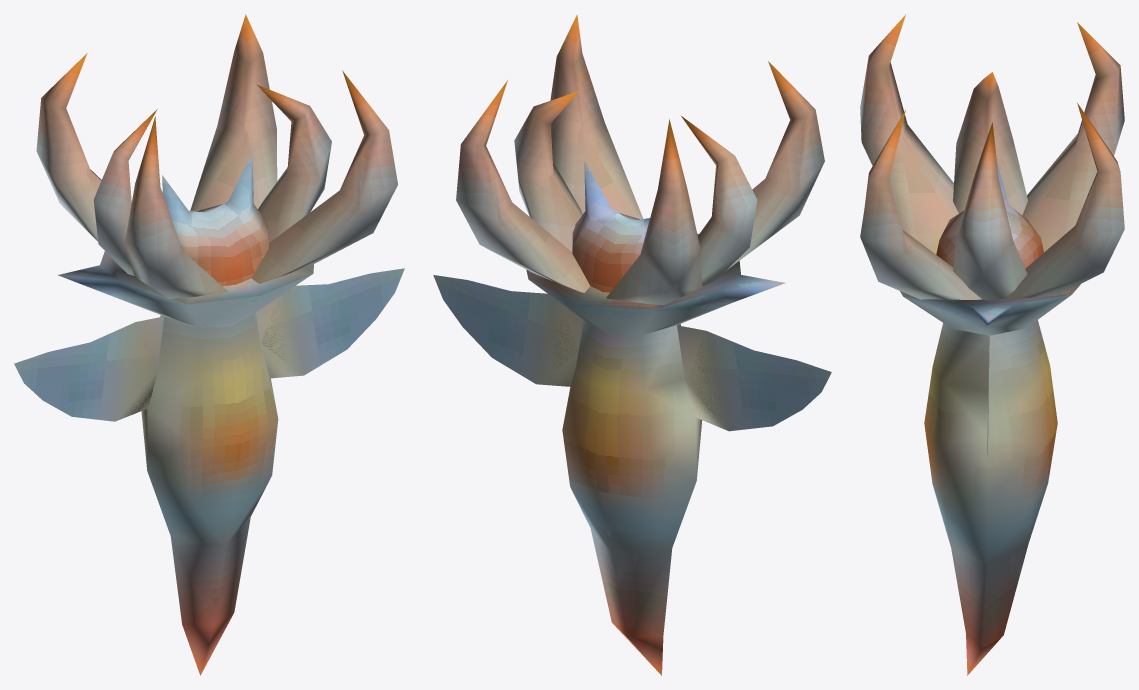
File: sea-butterfly.glb
The picture shows the model from 3 angles, left to right: view 1: azimuth 30°, elevation 25°; view 2: azimuth 150°, elevation 25°; view 3: azimuth 270°, elevation 25°; orthographic projection. The views are drawn at different scales.
Size of the model in its own units: 2.15 by 3.15 by 1.21.
1 material, 1 textured.
